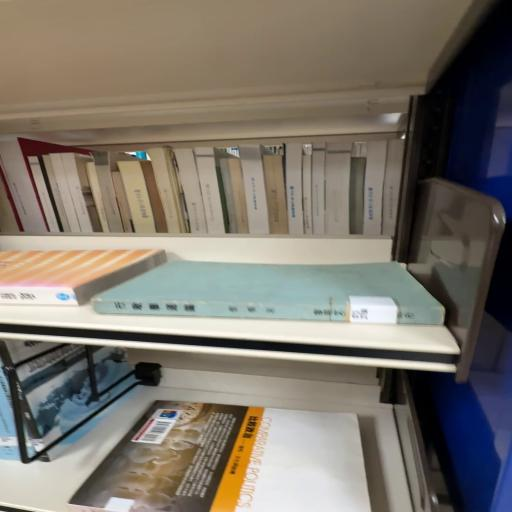flat: (68, 401, 374, 512), (92, 261, 445, 326), (1, 250, 167, 307)
